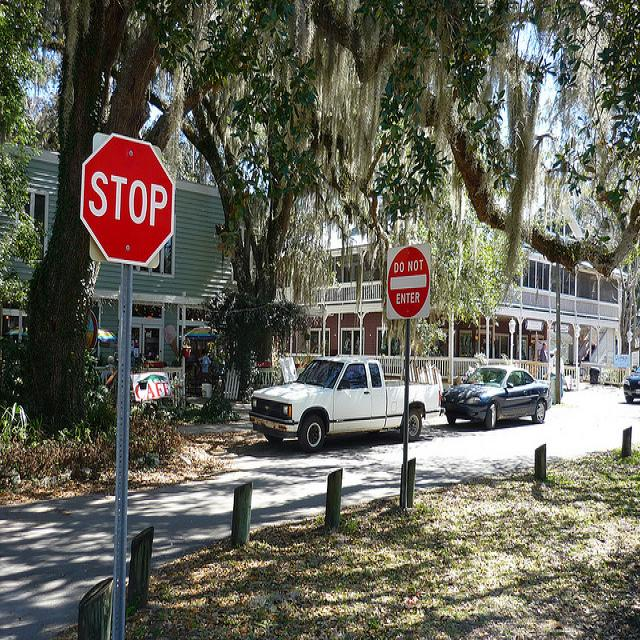Vehicle: (249, 354, 446, 452), (443, 364, 553, 429), (624, 365, 640, 403)
